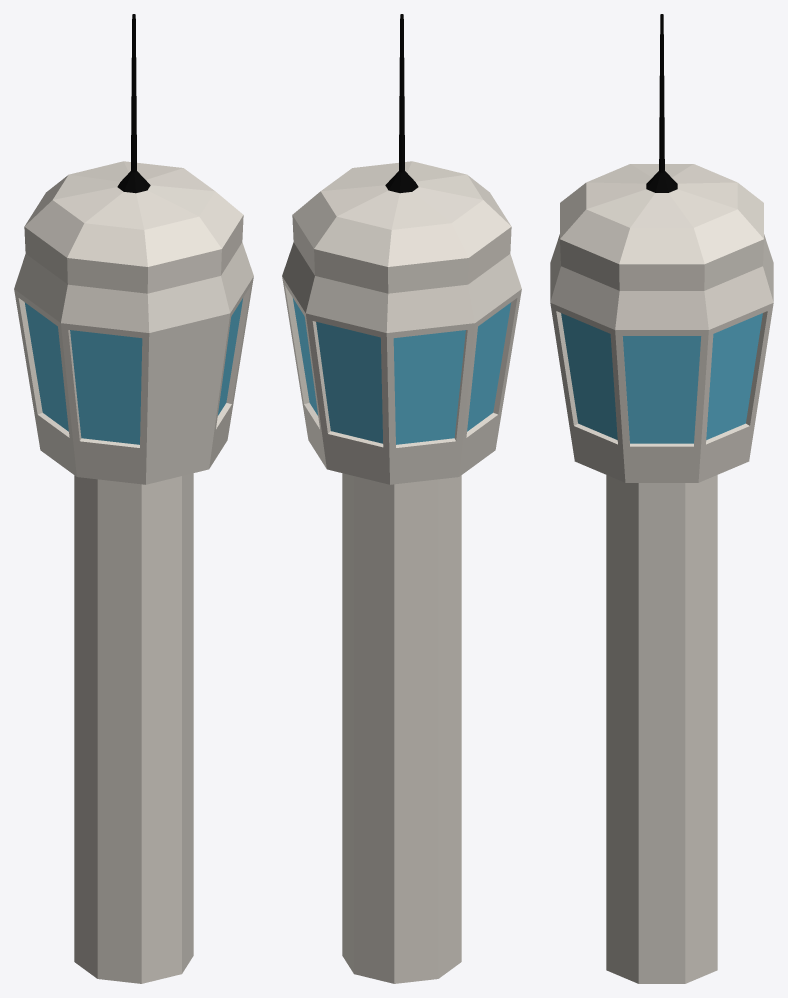
The model's file is atc tower.glb.
The picture shows the model from 3 angles, left to right: view 1: azimuth 30°, elevation 25°; view 2: azimuth 150°, elevation 25°; view 3: azimuth 270°, elevation 25°; orthographic projection.
Visible parts, largest first — view 1: Cube; view 2: Cube; view 3: Cube.
Part boxes in pixels (x1=…): Cube: x1=14, y1=14, x2=253, y2=983; Cube: x1=282, y1=14, x2=521, y2=983; Cube: x1=550, y1=14, x2=773, y2=983.
Size of the model in its own units: 10.03 by 46.83 by 10.03.
